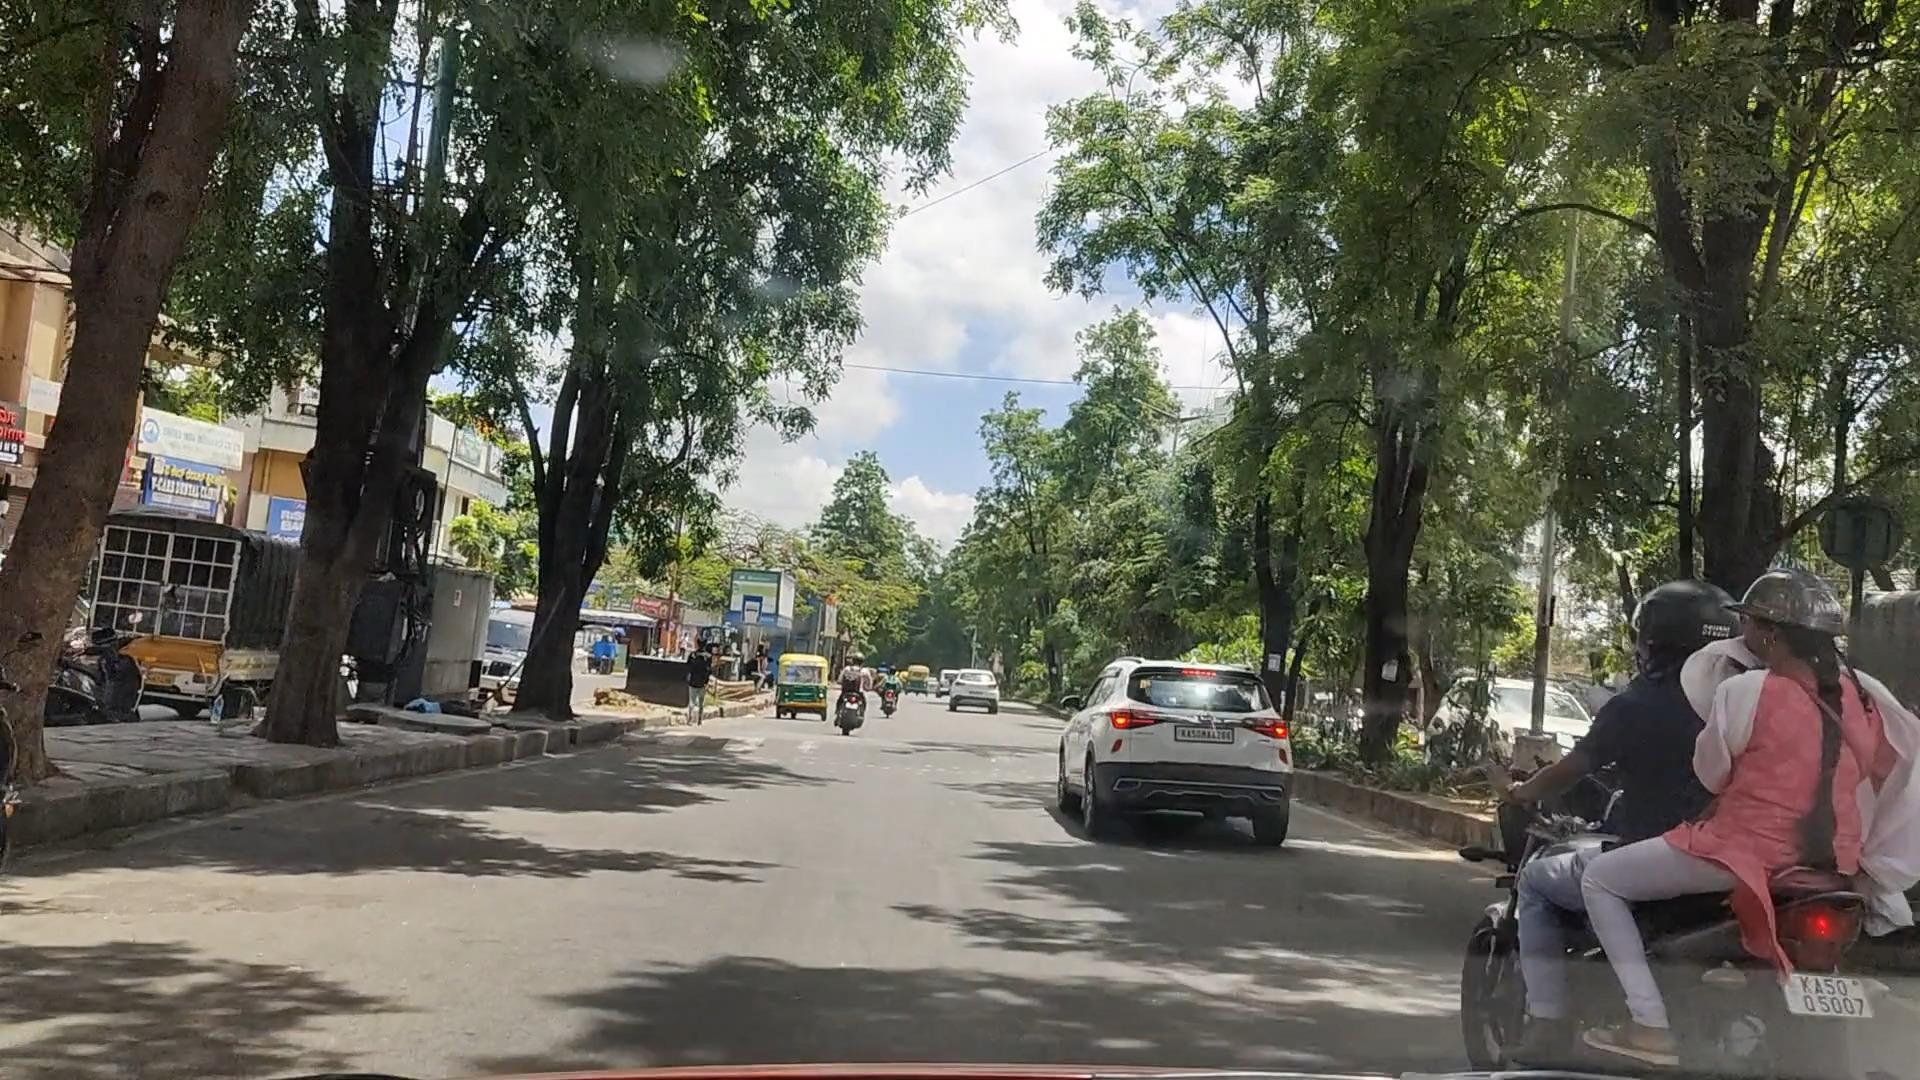LMV: (1507, 545, 1900, 1080), (1056, 661, 1287, 848)
SpeedBump: (665, 721, 1030, 760)
